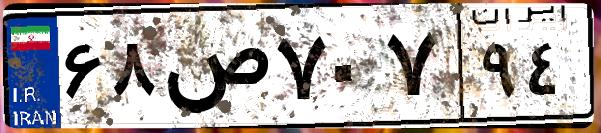0: (330, 28, 385, 110)
4: (525, 38, 570, 115)
6: (57, 26, 110, 100)
7: (270, 28, 330, 110), (385, 28, 445, 110)
8: (110, 28, 158, 98)
9: (475, 38, 525, 113)
ص: (158, 20, 270, 120)
